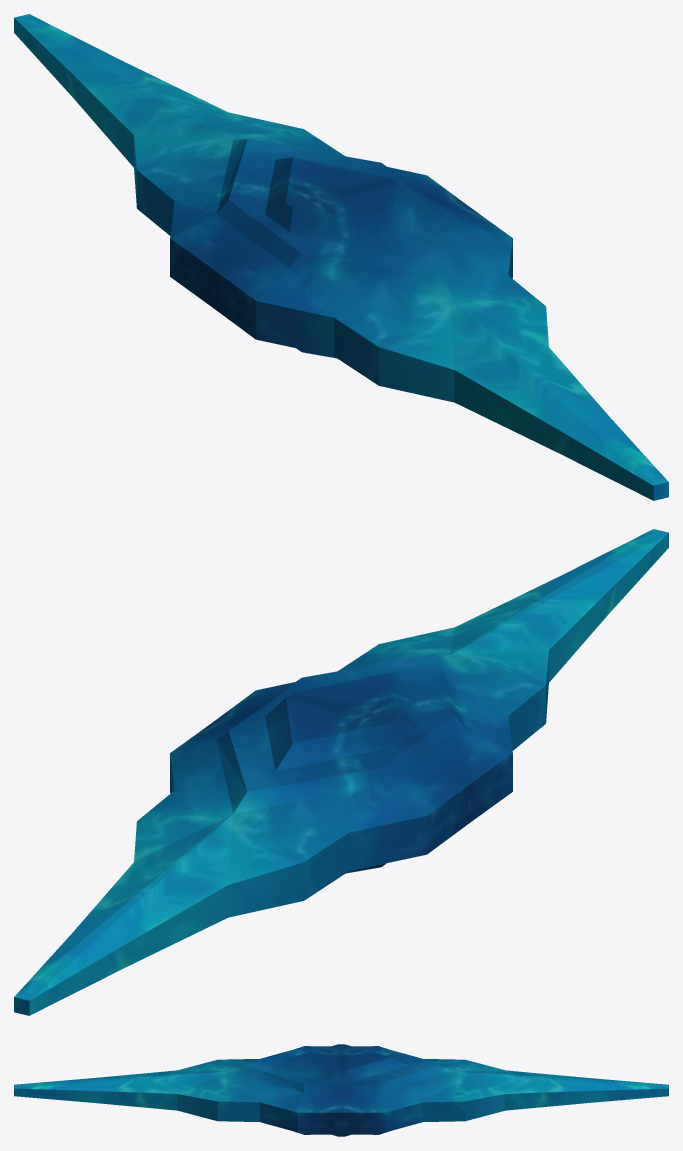
The picture shows the model from 3 angles, top to bottom: view 1: azimuth 30°, elevation 25°; view 2: azimuth 150°, elevation 25°; view 3: azimuth 270°, elevation 25°; orthographic projection. The views are drawn at different scales.
Parts seen in each view (by area): view 1: model_Object151; view 2: model_Object151; view 3: model_Object151.
Boxes of the visible parts, x1,y1,x2,y2 form: model_Object151: [14, 14, 668, 500]; model_Object151: [14, 529, 668, 1015]; model_Object151: [14, 1044, 668, 1136].
Size of the model in its own units: 1.16 by 0.5585 by 5.01.
Materials: 2 (2 with a texture image).
